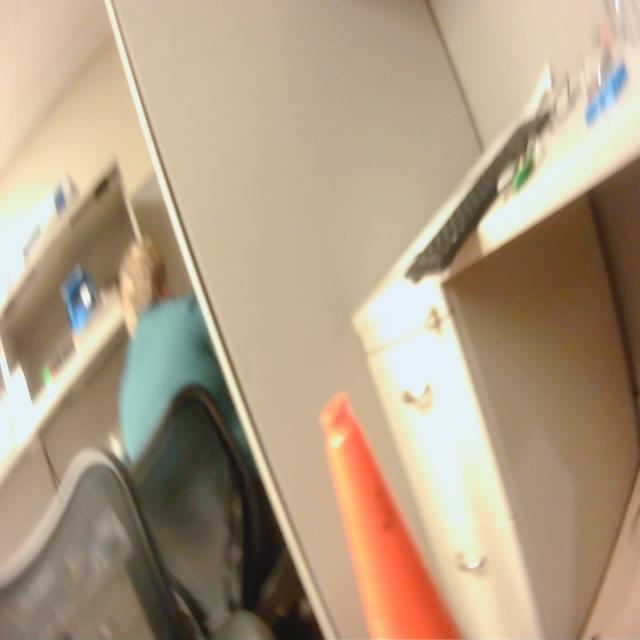traffic cone: (314, 382, 466, 640)
